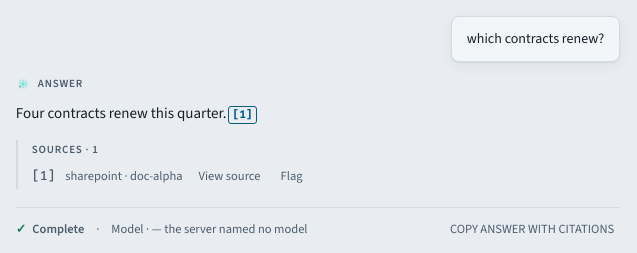
Test: signals reach the intake exactly once › confirms a flagged citation on the citation it flagged
The width and height of the screenshot is (637, 253).
Click the button "Flag" at (292, 176), box [274,165,308,187]
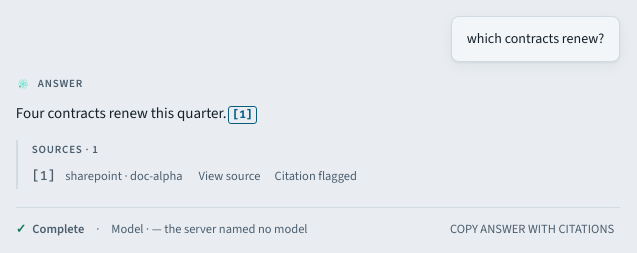
Now the text "Citation flagged" is shown, box [274,167,357,185]
